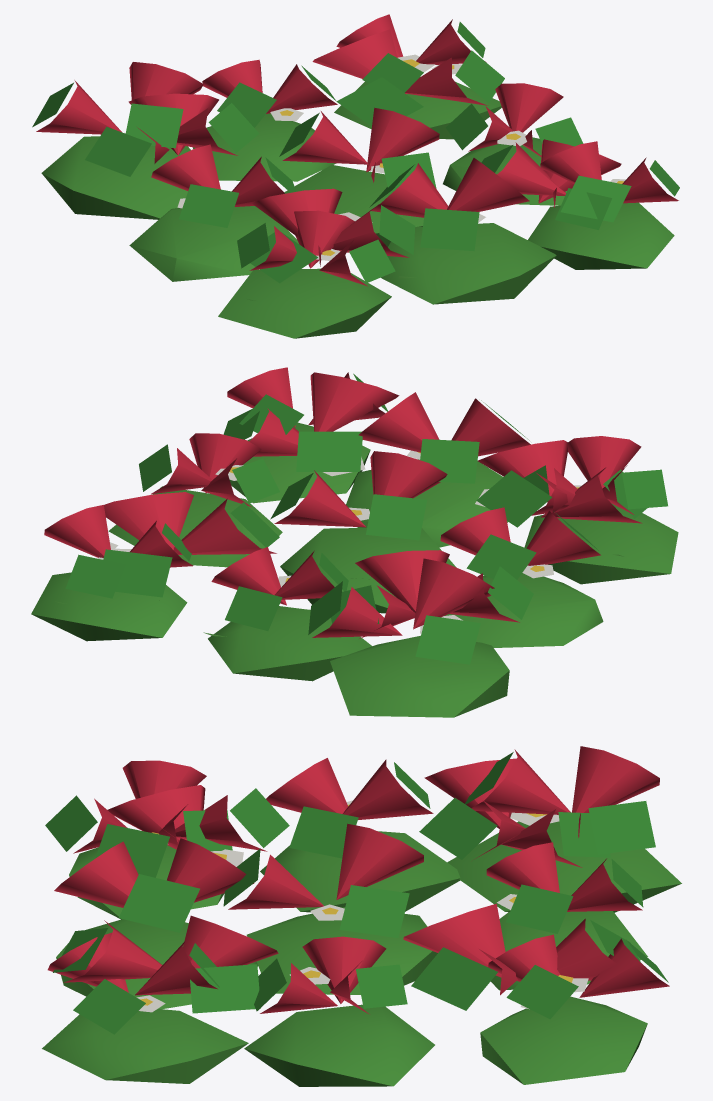
The model's file is strawberry.glb.
The picture shows the model from 3 angles, top to bottom: view 1: azimuth 30°, elevation 25°; view 2: azimuth 150°, elevation 25°; view 3: azimuth 270°, elevation 25°; orthographic projection. The views are drawn at different scales.
Visible parts, largest first — view 1: crop-strawberry-3, crop-strawberry-3-far, crop-strawberry-2; view 2: crop-strawberry-3, crop-strawberry-3-far, crop-strawberry-2; view 3: crop-strawberry-3, crop-strawberry-3-far, crop-strawberry-2, crop-strawberry-2-far.
Boxes of the visible parts, x1,y1,x2,y2 form: crop-strawberry-3: [32, 14, 679, 338]; crop-strawberry-3-far: [85, 29, 631, 283]; crop-strawberry-2: [177, 64, 625, 300]; crop-strawberry-3: [31, 367, 678, 717]; crop-strawberry-3-far: [103, 372, 647, 638]; crop-strawberry-2: [55, 450, 623, 636]; crop-strawberry-3: [42, 746, 681, 1086]; crop-strawberry-3-far: [53, 758, 640, 1013]; crop-strawberry-2: [136, 800, 565, 1012]; crop-strawberry-2-far: [211, 812, 588, 992].
Size of the model in its own units: 1.86 by 0.3799 by 1.88.
